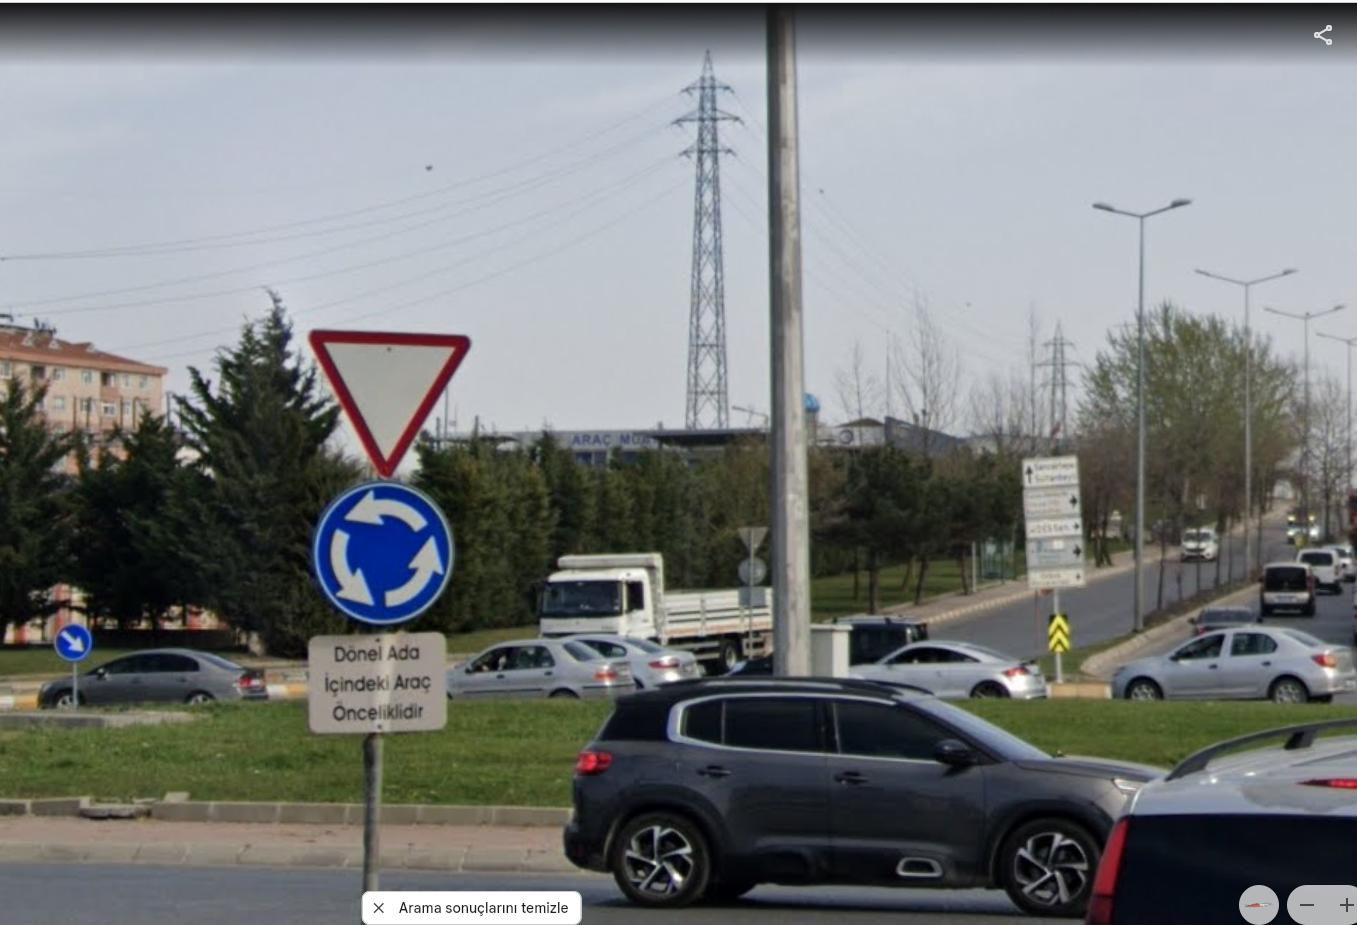crossroads: (318, 488, 455, 623)
